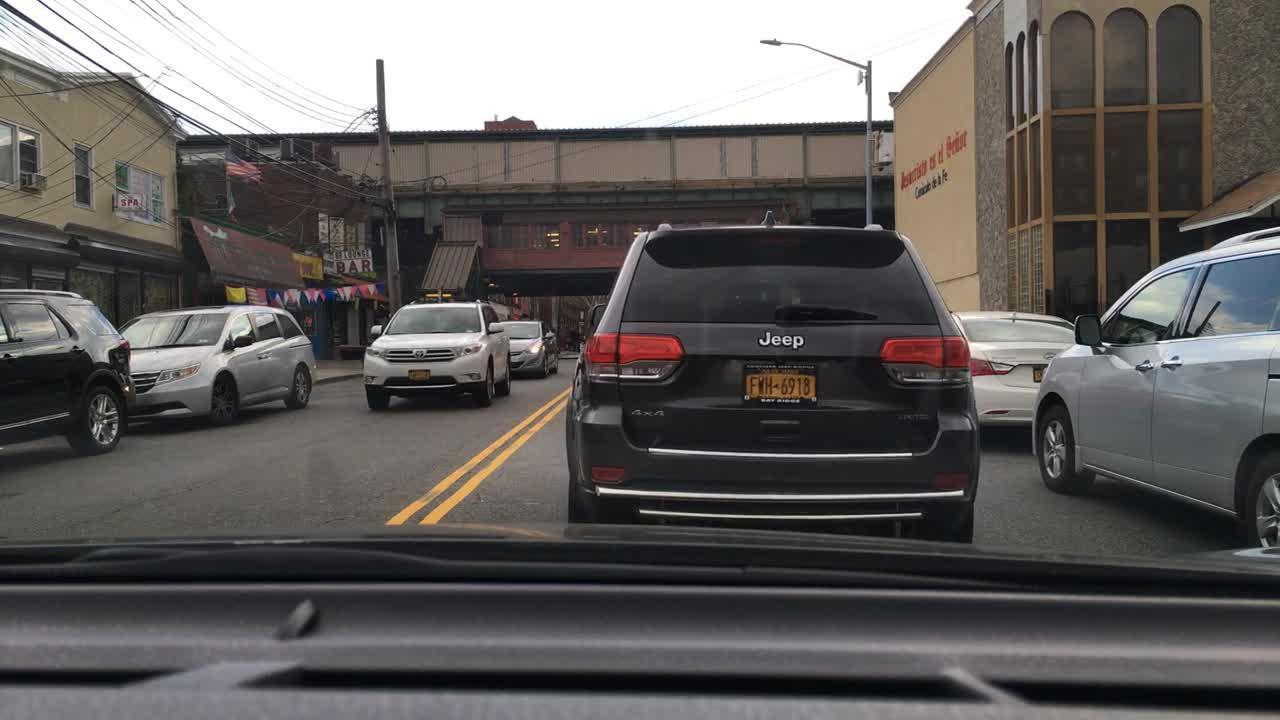jeep: (735, 313, 824, 353)
